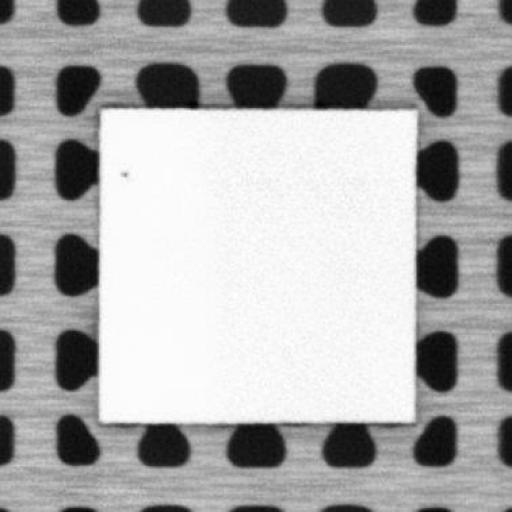DIE_INK: (117, 166, 130, 177)
